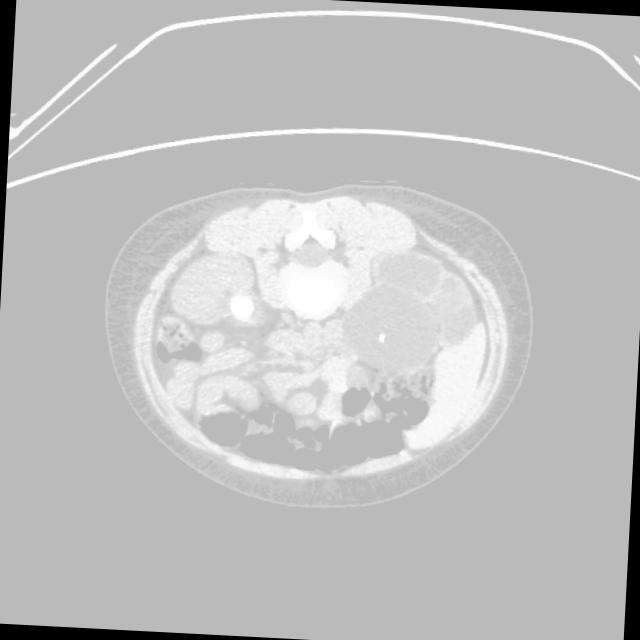STONE: (169, 304, 426, 501)
